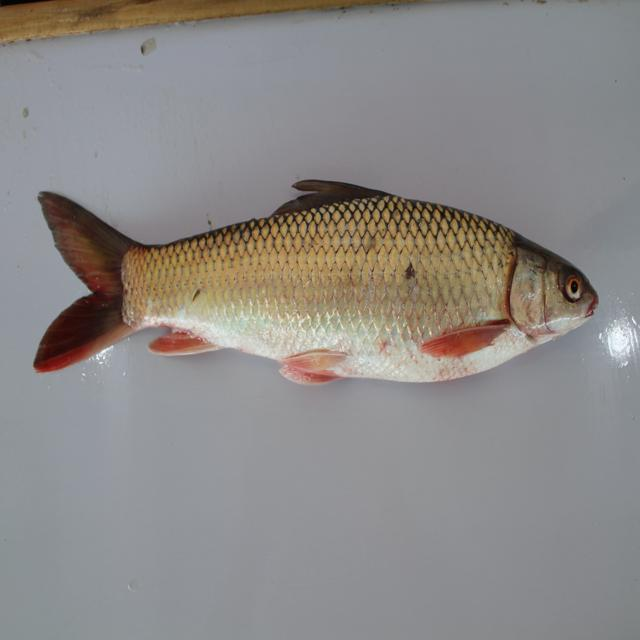Mori: (26, 173, 606, 403)
